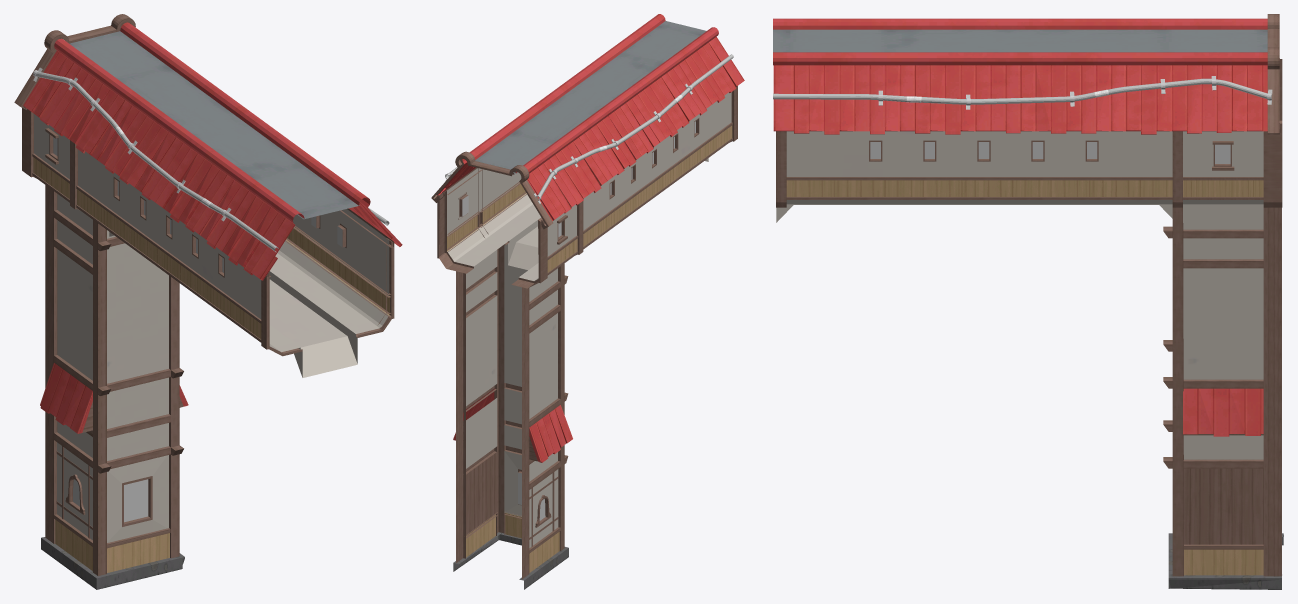
The model's file is SM_ENV_KNVLLG_AreaK_Building_A_Gate.fbx.
The picture shows the model from 3 angles, left to right: view 1: azimuth 30°, elevation 25°; view 2: azimuth 150°, elevation 25°; view 3: azimuth 270°, elevation 25°; orthographic projection. The views are drawn at different scales.
Visible parts, largest first — view 1: SM_ENV_KNVLLG_AreaK_Building_A_Gate.mo; view 2: SM_ENV_KNVLLG_AreaK_Building_A_Gate.mo; view 3: SM_ENV_KNVLLG_AreaK_Building_A_Gate.mo.
Boxes of the visible parts, box(x1,y1,x2,y2) form: SM_ENV_KNVLLG_AreaK_Building_A_Gate.mo: box(14, 14, 402, 589); SM_ENV_KNVLLG_AreaK_Building_A_Gate.mo: box(431, 14, 744, 589); SM_ENV_KNVLLG_AreaK_Building_A_Gate.mo: box(773, 14, 1283, 589).
Bounding box in the file's own units: 1347 × 4573 × 3951.
